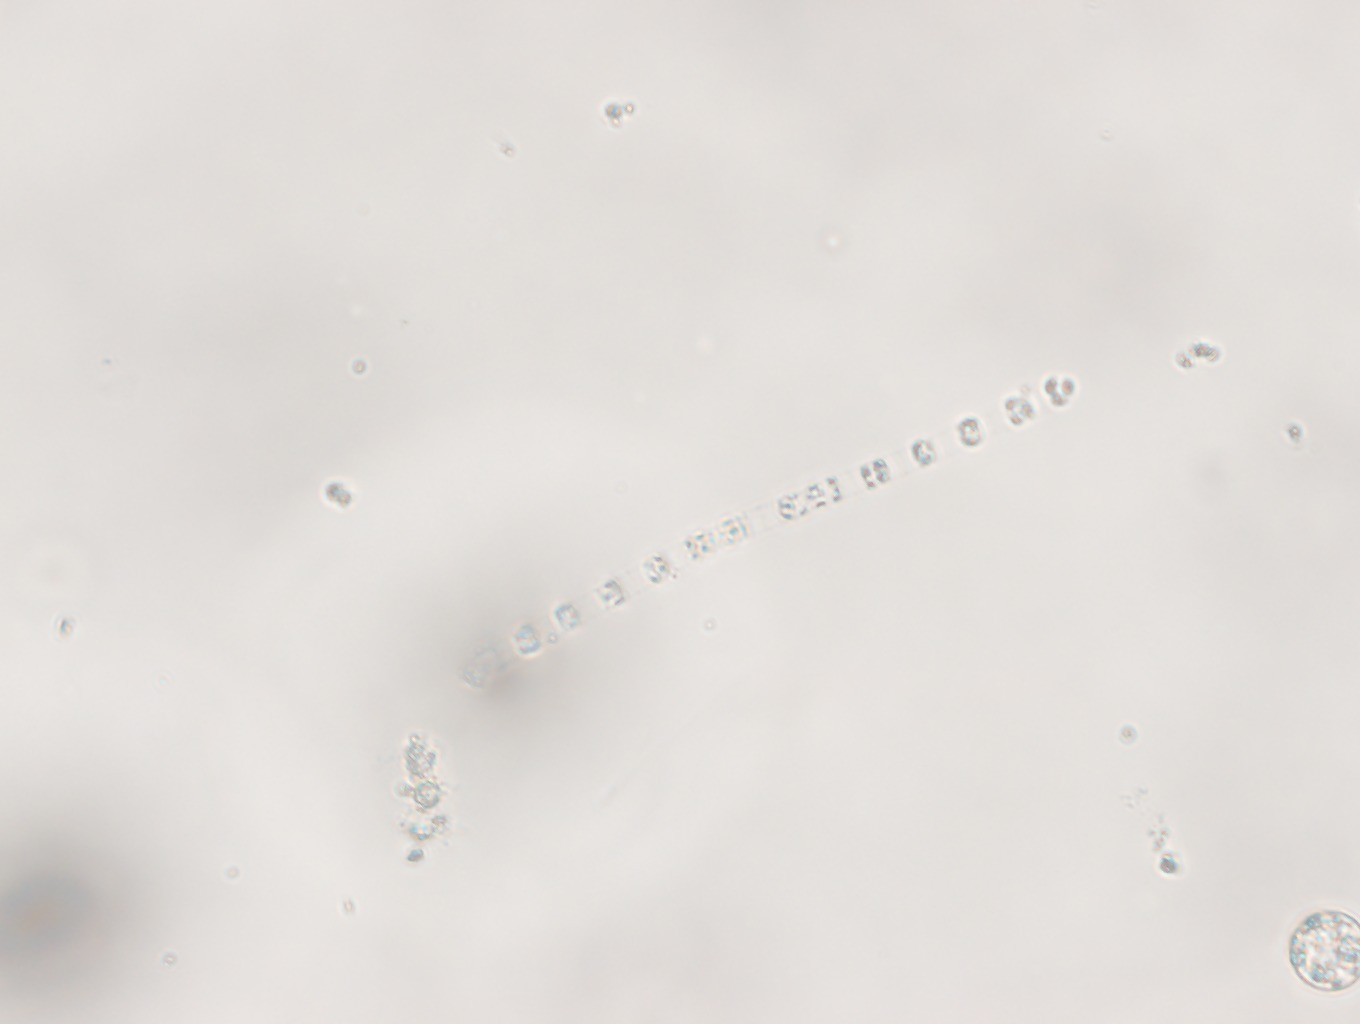skeletonema: (464, 374, 1076, 685)
